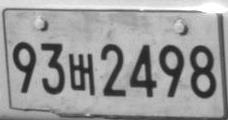2: (99, 43, 126, 97)
3: (39, 42, 65, 95)
4: (128, 43, 157, 98)
8: (188, 44, 217, 99)
9: (157, 43, 185, 97), (11, 40, 37, 94)
버: (68, 52, 96, 96)
